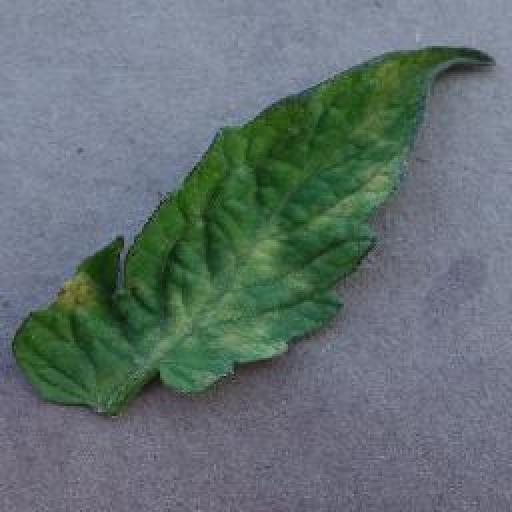Leaf Mold: (14, 44, 495, 416)
